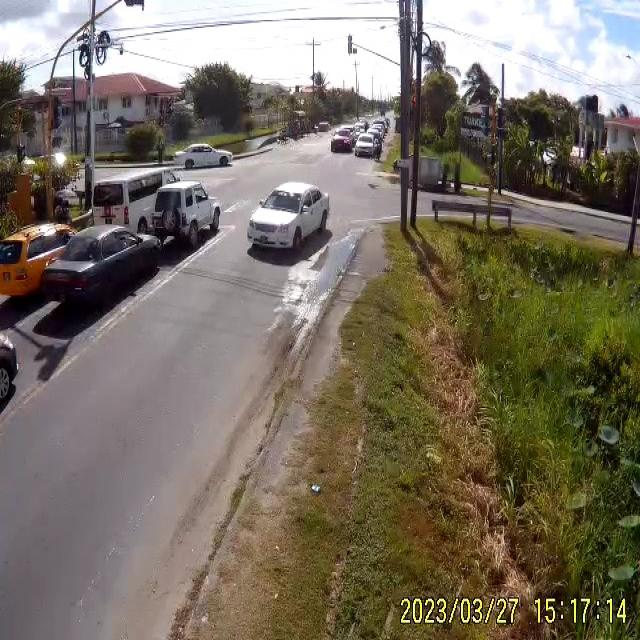car: (41, 226, 162, 316), (90, 163, 178, 233), (1, 224, 78, 301), (247, 182, 331, 250), (150, 177, 223, 250), (176, 146, 232, 170), (355, 133, 380, 158), (331, 134, 355, 155)
